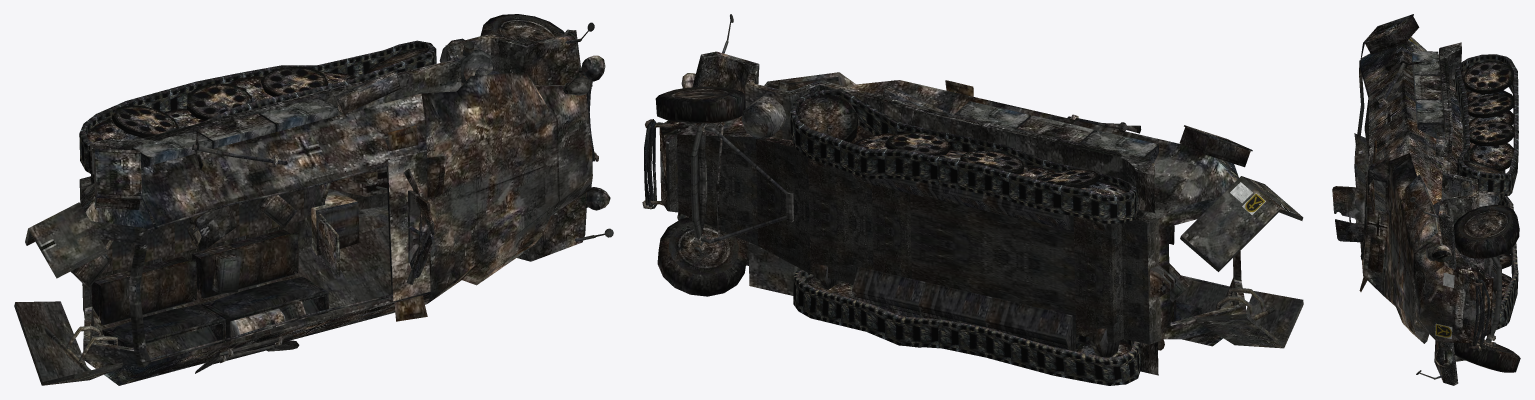
File: vehicle_halftrack_mg_woodland_d.glb
3 views of the same model, side by side, from view 1: azimuth 30°, elevation 25°; view 2: azimuth 150°, elevation 25°; view 3: azimuth 270°, elevation 25° (orthographic). The views are drawn at different scales.
Size of the model in its own units: 257 by 101 by 88.62.
3 materials, 3 textured.
